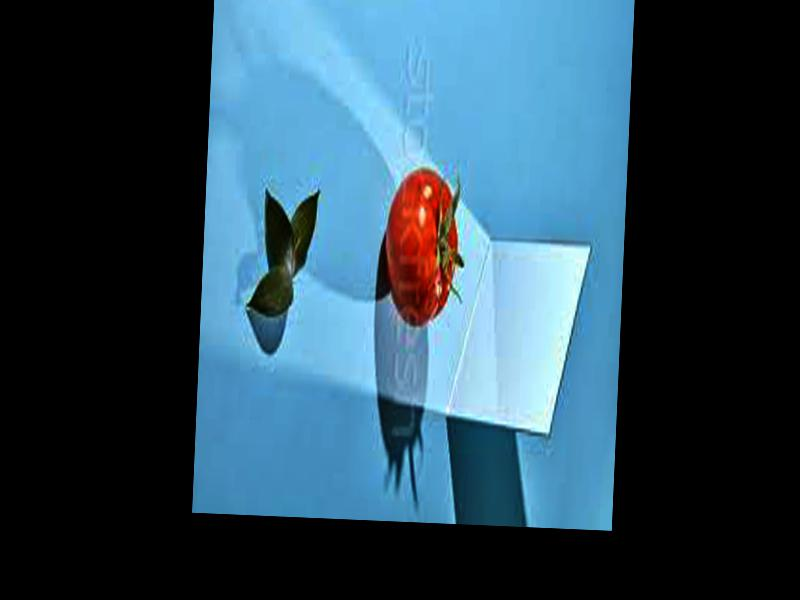Tomato: (381, 163, 462, 328)
